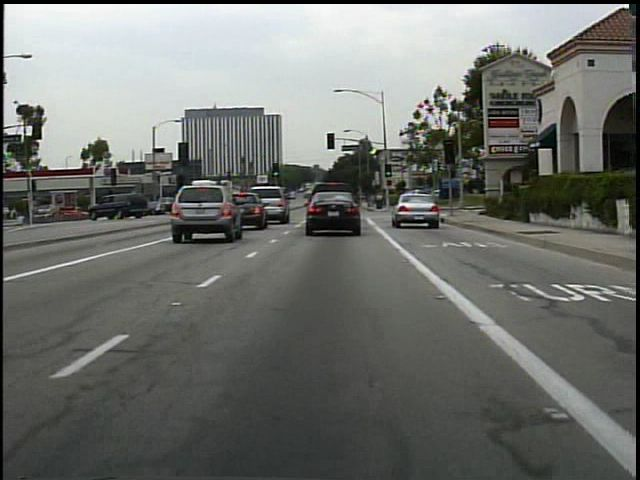car: (167, 179, 244, 243), (305, 180, 363, 238), (393, 191, 440, 229), (87, 190, 148, 218), (256, 186, 288, 221)
